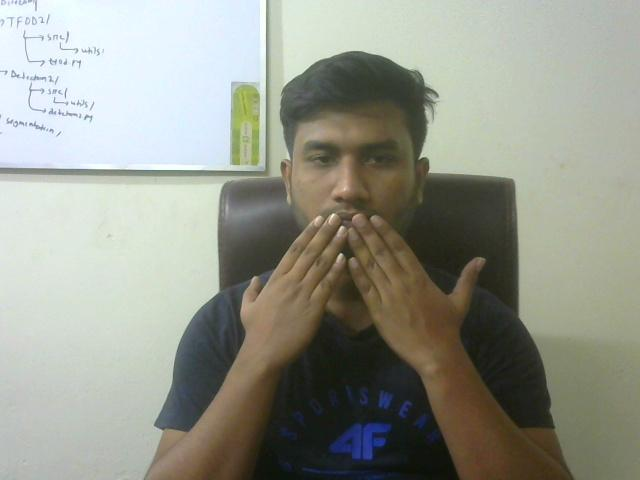Thanks: (230, 206, 504, 369)
